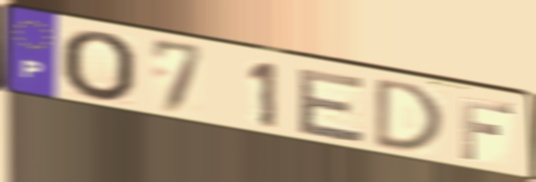1: (246, 59, 280, 130)
7: (148, 37, 206, 120)
D: (371, 76, 448, 155)
E: (295, 66, 369, 145)
F: (457, 93, 516, 163)
O: (57, 29, 141, 107)
